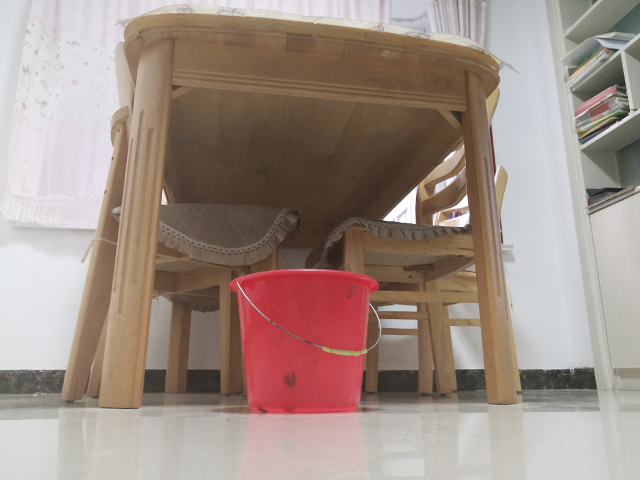cabinet: (544, 1, 640, 390)
stool: (61, 39, 303, 409), (300, 86, 523, 395)
table: (97, 11, 523, 410)
